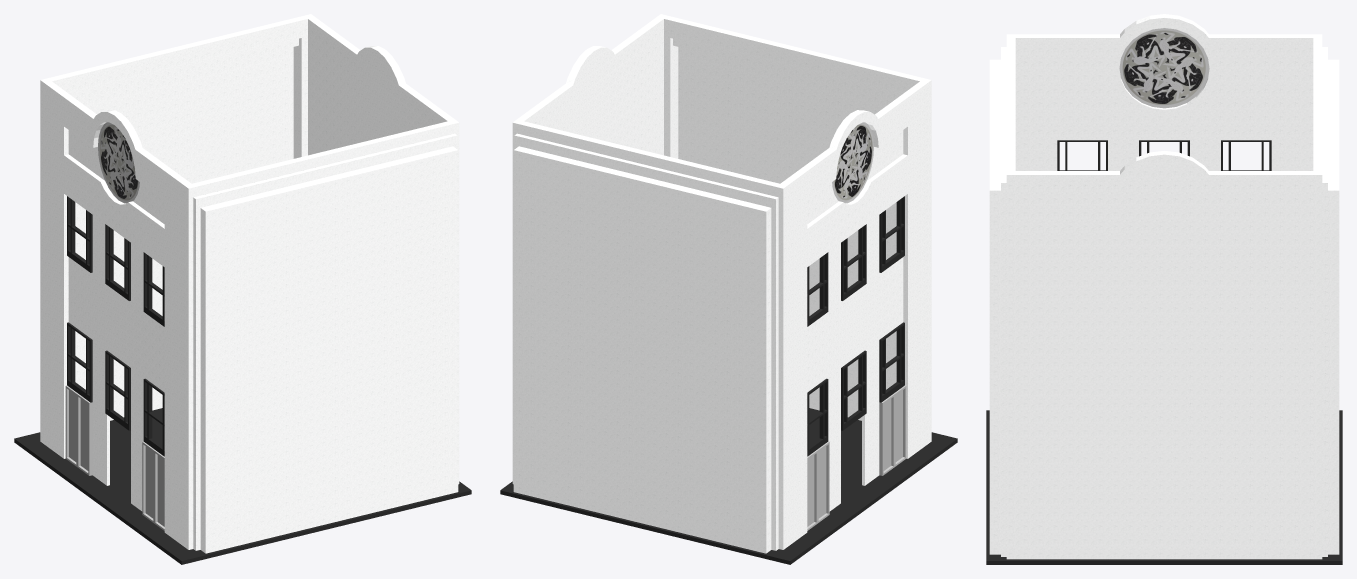
Rendered from house-of-giants-v3.glb.
3 renders of one model, left to right at view 1: azimuth 30°, elevation 25°; view 2: azimuth 150°, elevation 25°; view 3: azimuth 270°, elevation 25°, orthographic. The views are drawn at different scales.
Parts seen in each view (by area): view 1: building-shell, ground-floor, windows, doors-01, top-floor-window; view 2: building-shell, ground-floor, windows, doors-01, top-floor-window; view 3: building-shell, top-floor-window, ground-floor, windows.
Boxes of the visible parts, <box> form: building-shell: <box>40,14,459,553</box>; ground-floor: <box>14,408,471,564</box>; windows: <box>67,196,164,456</box>; doors-01: <box>65,385,164,530</box>; top-floor-window: <box>98,122,139,203</box>; building-shell: <box>512,14,931,553</box>; ground-floor: <box>500,408,957,564</box>; windows: <box>807,196,904,456</box>; doors-01: <box>807,385,906,530</box>; top-floor-window: <box>832,122,873,203</box>; building-shell: <box>989,14,1339,559</box>; top-floor-window: <box>1119,28,1209,108</box>; ground-floor: <box>986,410,1342,564</box>; windows: <box>1057,140,1271,170</box>.
Size of what is drawn, in the model's own units: 15.8 by 20 by 15.8.
4 materials, 3 textured.
